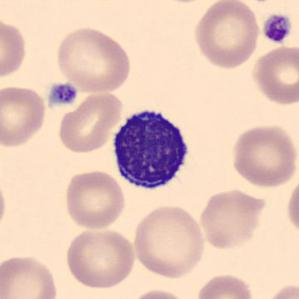Lymphocyte: (107, 102, 196, 196)
Platelets: (260, 12, 294, 46), (46, 81, 80, 108)
RBC: (130, 202, 208, 280), (53, 24, 134, 95), (190, 0, 263, 70), (63, 225, 136, 291), (229, 122, 298, 189), (56, 89, 126, 155), (197, 186, 268, 251), (62, 168, 128, 231), (0, 83, 48, 149), (250, 44, 298, 106), (0, 252, 61, 299), (0, 16, 29, 82), (194, 272, 257, 299), (285, 173, 299, 240), (126, 286, 192, 299), (262, 281, 299, 299), (0, 172, 9, 236)
